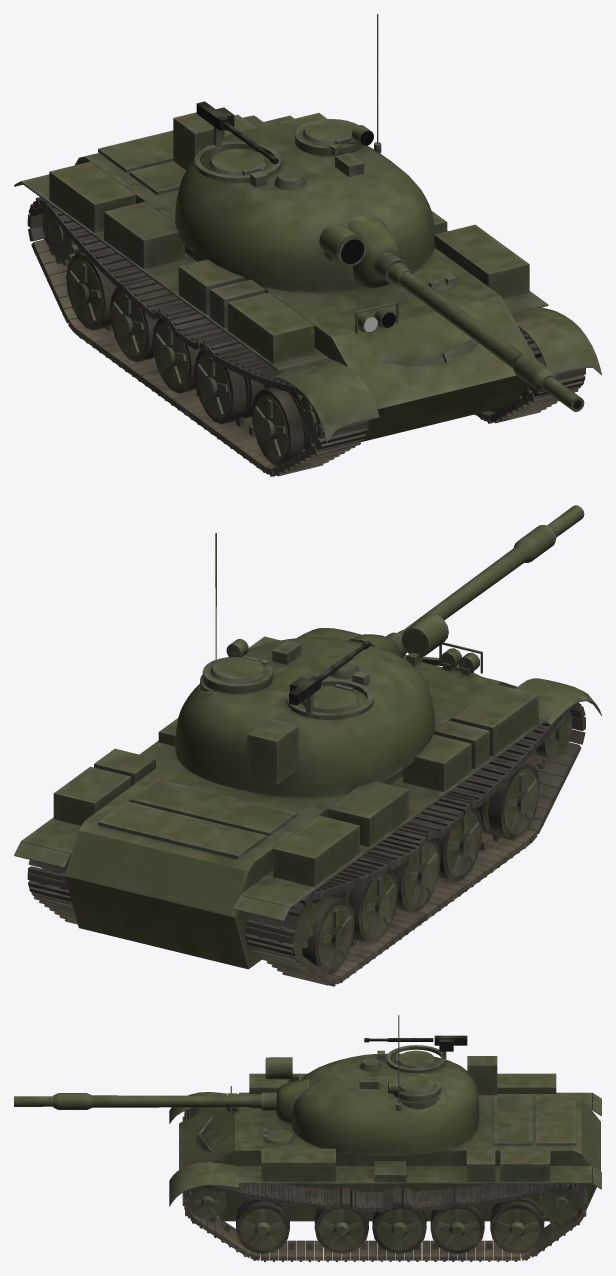
3 views of the same model, one above another, from view 1: azimuth 30°, elevation 25°; view 2: azimuth 150°, elevation 25°; view 3: azimuth 270°, elevation 25° (orthographic). The views are drawn at different scales.
Parts seen in each view (by area): view 1: than, thap, xich_phai, nong, banh_phai_1, banh_phai_2, banh_phai_5, banh_phai_4, banh_phai_3, xich_trai, den_l2, vong_sung_may (+6 smaller); view 2: than, thap, xich_phai, nong, banh_phai_1, banh_phai_5, banh_phai_4, banh_phai_3, banh_phai_2, xich_trai, den_l2, vong_sung_may (+6 smaller); view 3: than, thap, xich_trai, nong, banh_trai_5, banh_trai_1, banh_trai_4, banh_trai_2, banh_trai_3, banh_chu_dong_trai, banh_dan_huong_trai, sung_may (+6 smaller).
Part boxes in pixels (left/top/right/bottom): than: left=14, top=113, right=601, bottom=442; thap: left=173, top=112, right=434, bottom=292; xich_phai: left=27, top=197, right=368, bottom=476; nong: left=374, top=252, right=584, bottom=411; banh_phai_1: left=252, top=387, right=313, bottom=465; banh_phai_2: left=194, top=349, right=264, bottom=424; banh_phai_5: left=66, top=252, right=116, bottom=330; banh_phai_4: left=110, top=287, right=157, bottom=362; banh_phai_3: left=152, top=319, right=200, bottom=393; xich_trai: left=474, top=328, right=585, bottom=423; den_l2: left=319, top=222, right=366, bottom=266; vong_sung_may: left=194, top=126, right=281, bottom=182; than: left=14, top=628, right=601, bottom=969; thap: left=175, top=634, right=434, bottom=797; xich_phai: left=245, top=703, right=585, bottom=986; nong: left=386, top=505, right=584, bottom=657; banh_phai_1: left=477, top=762, right=540, bottom=839; banh_phai_5: left=301, top=896, right=354, bottom=975; banh_phai_4: left=331, top=869, right=397, bottom=943; banh_phai_3: left=391, top=838, right=440, bottom=912; banh_phai_2: left=434, top=807, right=482, bottom=882; xich_trai: left=27, top=855, right=77, bottom=924; den_l2: left=401, top=614, right=448, bottom=657; vong_sung_may: left=286, top=679, right=373, bottom=719; than: left=169, top=1073, right=601, bottom=1221; thap: left=276, top=1050, right=497, bottom=1155; xich_trai: left=182, top=1184, right=587, bottom=1261; nong: left=14, top=1092, right=276, bottom=1110; banh_trai_5: left=490, top=1197, right=544, bottom=1253; banh_trai_1: left=236, top=1198, right=289, bottom=1253; banh_trai_4: left=430, top=1195, right=484, bottom=1253; banh_trai_2: left=314, top=1195, right=368, bottom=1253; banh_trai_3: left=372, top=1195, right=426, bottom=1253; banh_chu_dong_trai: left=538, top=1184, right=581, bottom=1225; banh_dan_huong_trai: left=189, top=1186, right=226, bottom=1219; sung_may: left=364, top=1035, right=467, bottom=1051.
Size of the model in its own units: 3.34 by 3.89 by 9.02.
1 material, 1 textured.
